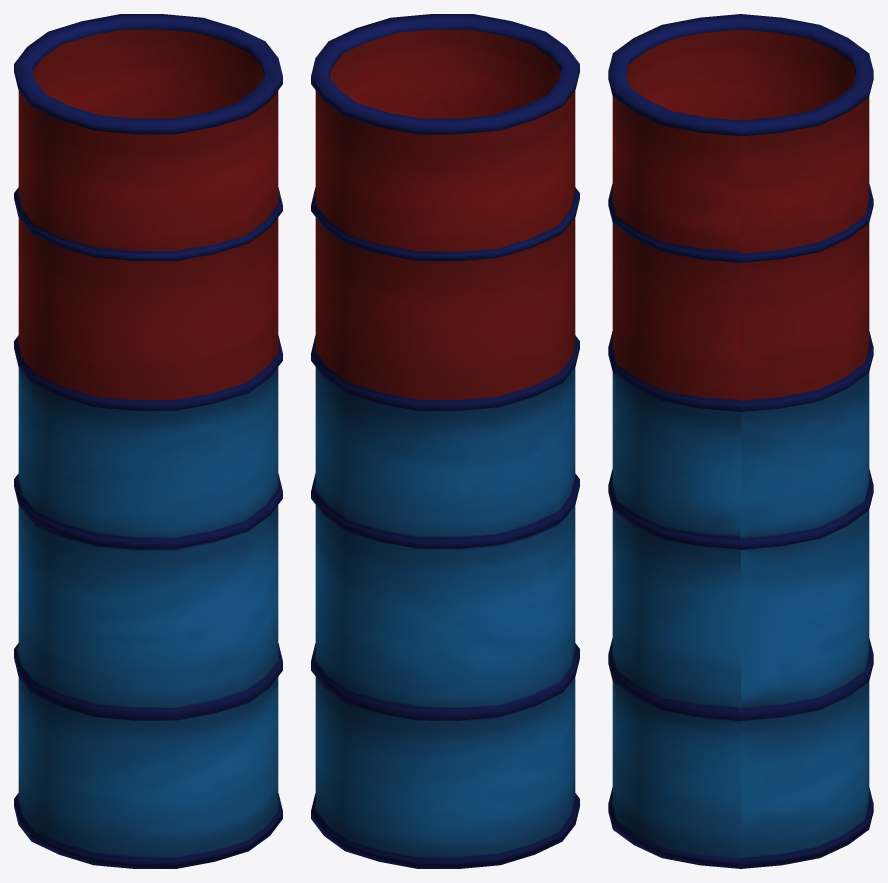
Rendered from Tunnel_Straight.fbx.
The picture shows the model from 3 angles, left to right: view 1: azimuth 30°, elevation 25°; view 2: azimuth 150°, elevation 25°; view 3: azimuth 270°, elevation 25°; orthographic projection.
Parts seen in each view (by area): view 1: Tunnel_Base, Tunnel_Base1; view 2: Tunnel_Base, Tunnel_Base1; view 3: Tunnel_Base, Tunnel_Base1.
Boxes of the visible parts, x1,y1,x2,y2 form: Tunnel_Base: (14,14,282,868); Tunnel_Base1: (14,14,282,868); Tunnel_Base: (311,14,579,868); Tunnel_Base1: (311,14,579,868); Tunnel_Base: (608,14,873,868); Tunnel_Base1: (608,15,873,868).
Size of the model in its own units: 5.7 by 17.3 by 5.61.
